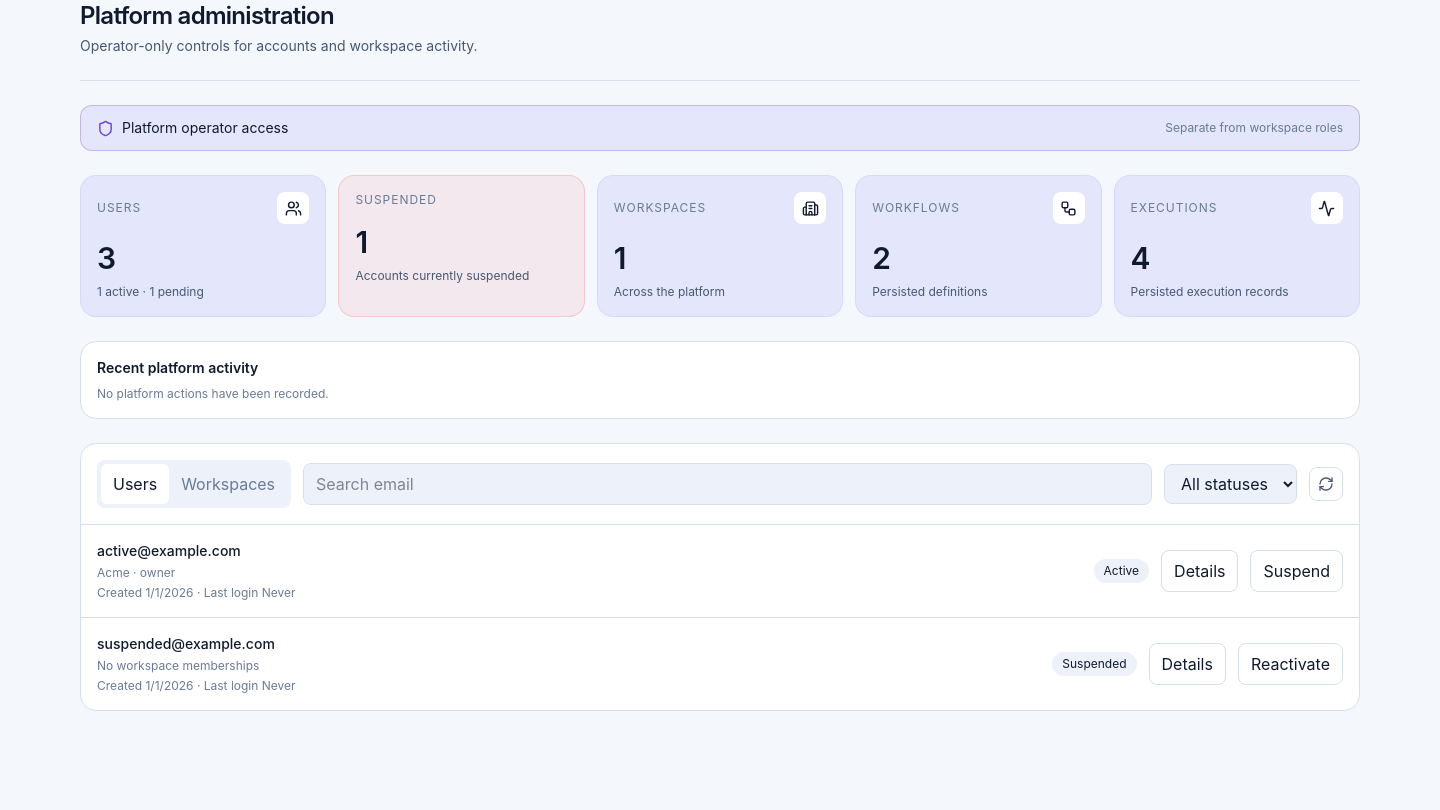
PlatformAdminPage › shows failed status changes without reporting success
Expected: the text "active@example.com" is shown, [97,542,241,559]
Click the button "Suspend". click: (1297, 571)
box: [1250,550,1343,592]
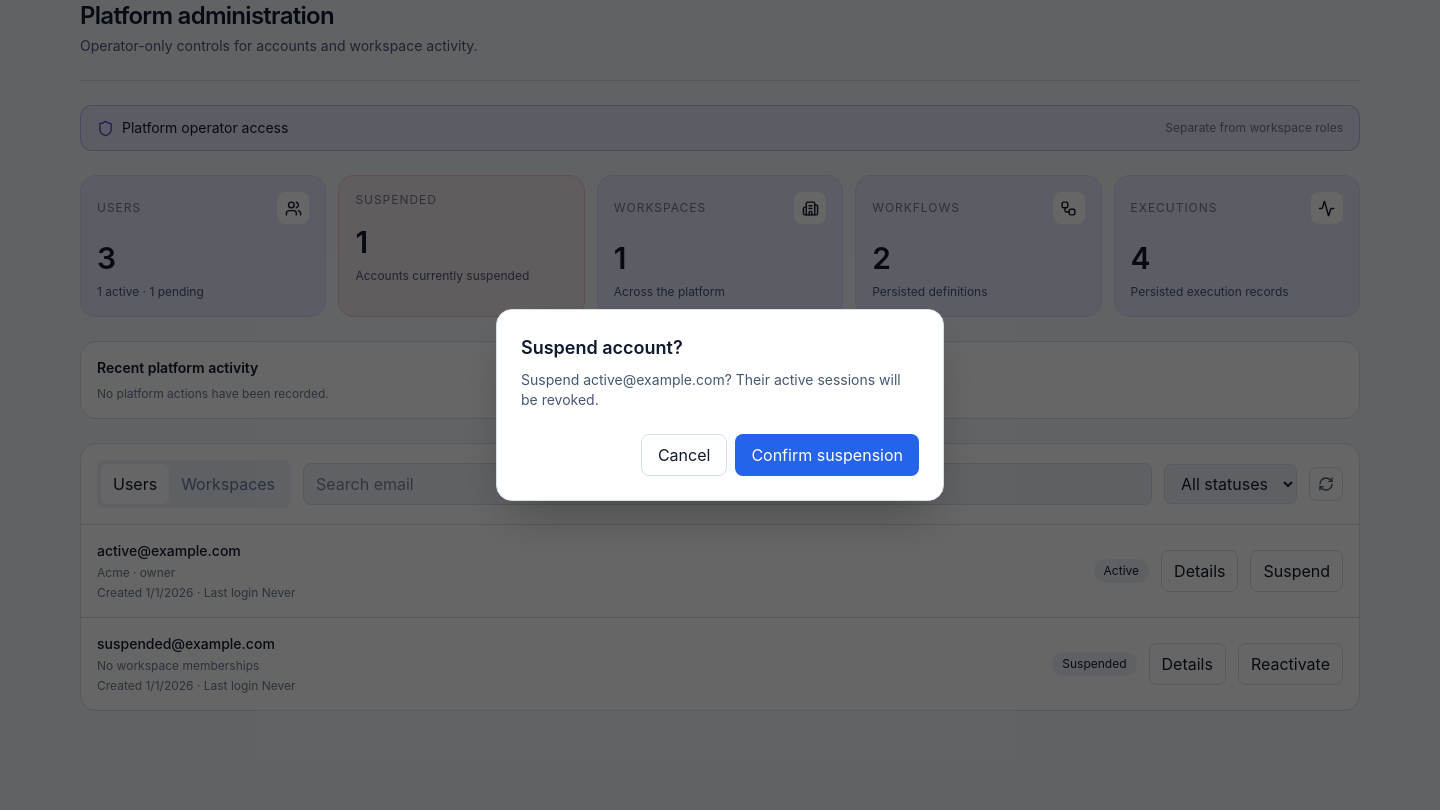
Click the button "Confirm suspension". click: (827, 455)
box: [735,434,919,476]
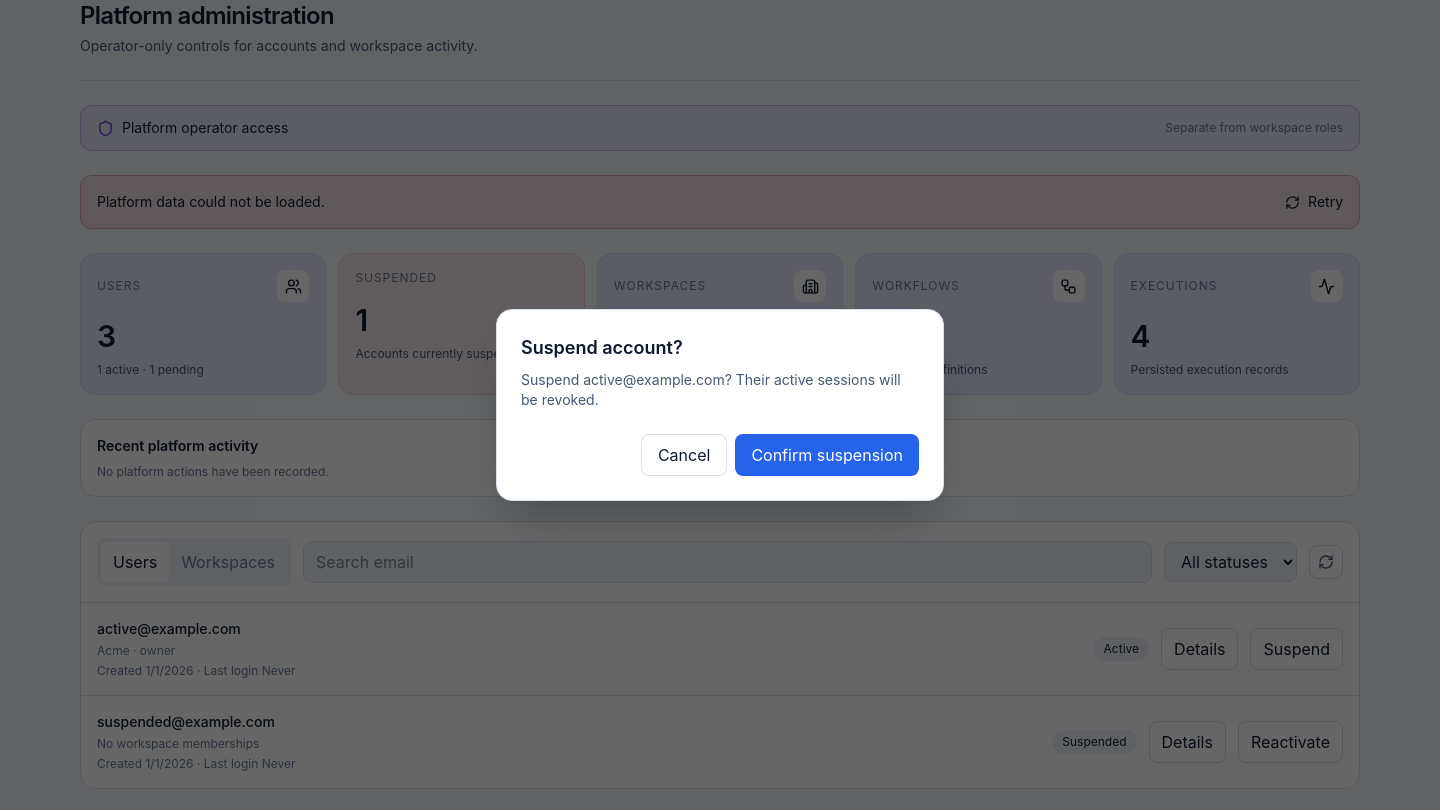
Expected: the dialog is shown, [496,309,944,501]
Expected: the message shows "could not be loaded", [97,193,325,210]
